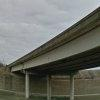Bridge: (8, 9, 95, 84)
